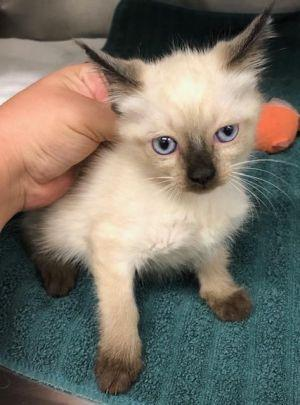siamese: (84, 7, 280, 219)
